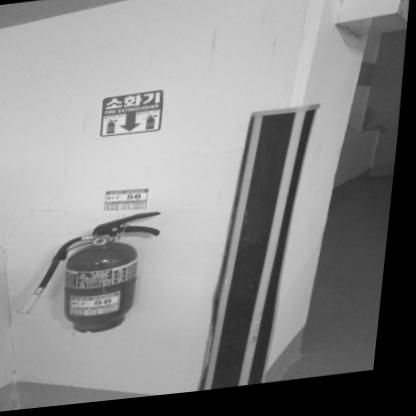FE: (56, 212, 160, 340)
